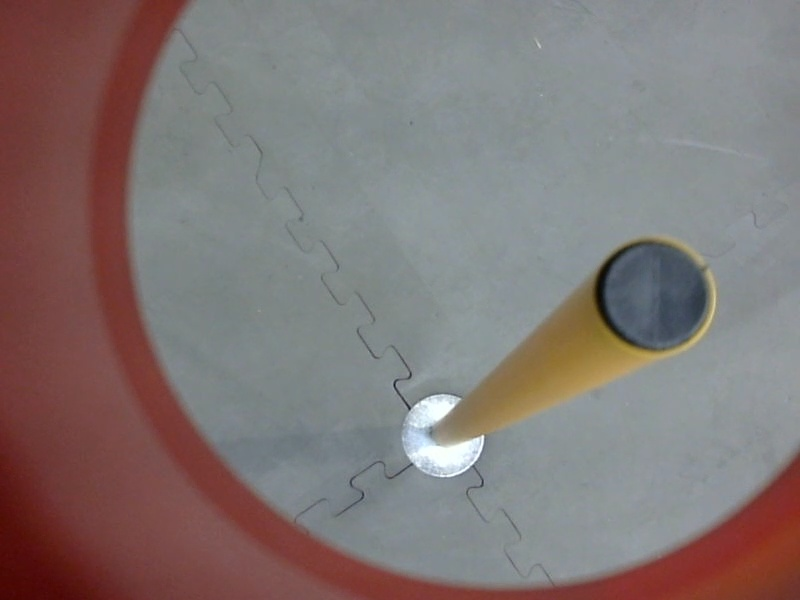tip: (590, 228, 728, 369)
